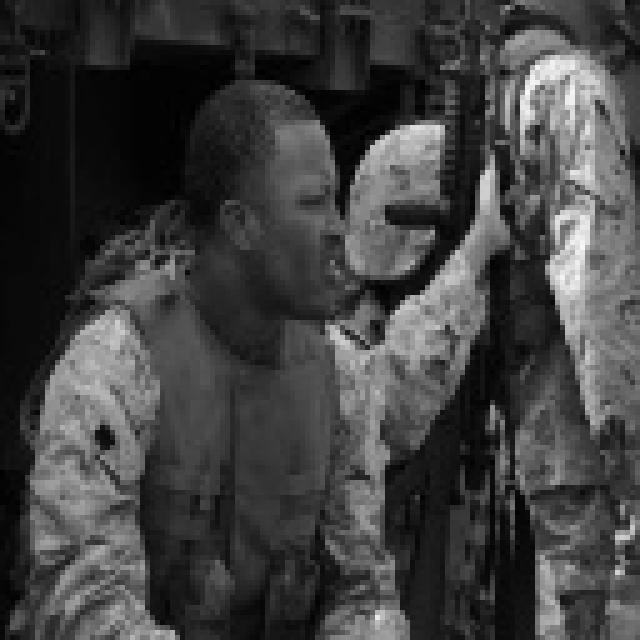Rifle: (384, 0, 506, 640), (494, 154, 556, 640), (562, 135, 568, 176)
